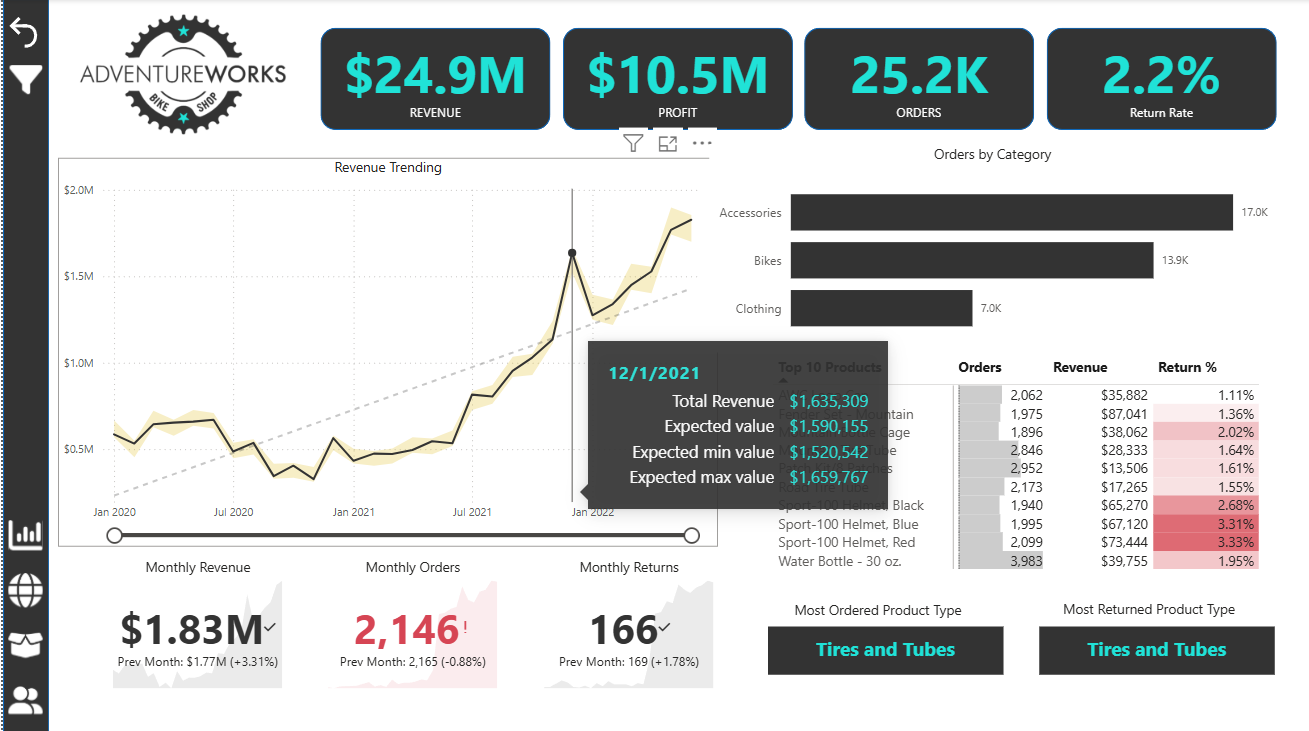

This screenshot's page, from the dashboard's own definition file:
{"tool":"powerbi","page":{"name":"EXEC Dashboard","canvas":[1280,720],"ordinal":0},"visuals":[{"type":"card","fields":{"Values":["Measure Table.Total Revenue"]},"box":[311.7,11.2,222.5,135],"z":0,"group":"g2"},{"type":"image","title":"AW Logo","box":[36.7,11.7,280,123.3],"z":0},{"type":"shape","box":[310,28.3,225,100],"z":0,"group":"g1"},{"type":"group","id":"g1","title":"KPI BAckgrounds","box":[310,28.3,935,100],"z":0,"group":"g3"},{"type":"actionButton","box":[1.2,665.2,45.2,41.6],"z":0,"group":"g4"},{"type":"shape","title":"Left Nav BG","box":[0,0,45,720],"z":1000},{"type":"group","id":"g2","title":"KPI VALUES","box":[311.7,11.2,932.5,135],"z":1000,"group":"g3"},{"type":"card","fields":{"Values":["Measure Table.Total Orders"]},"box":[785,11.2,222.5,135],"z":1000,"group":"g2"},{"type":"shape","box":[546.7,28.3,225,100],"z":1000,"group":"g1"},{"type":"actionButton","box":[1.2,503.8,45.2,41.6],"z":1000,"group":"g4"},{"type":"group","id":"g3","title":"KPIs","box":[310,11.2,935,135],"z":2000},{"type":"card","fields":{"Values":["Measure Table.Total Profit"]},"box":[548.4,11.2,222.5,135],"z":2000,"group":"g2"},{"type":"shape","box":[1020,28.3,225,100],"z":2000,"group":"g1"},{"type":"actionButton","box":[1.2,611.4,45.2,41.6],"z":2000,"group":"g4"},{"type":"card","fields":{"Values":["Measure Table.Return Rate"]},"box":[1021.7,11.2,222.5,135],"z":3000,"group":"g2"},{"type":"shape","box":[783.3,28.3,225,100],"z":3000,"group":"g1"},{"type":"lineChart","title":"Revenue Trending","fields":{"Category":["Calendar Lookup.Start of Month"],"Y":["Measure Table.Total Revenue"]},"box":[54.3,155.7,645.7,380],"z":3000},{"type":"actionButton","box":[1.2,557.6,45.2,41.6],"z":3000,"group":"g4"},{"type":"kpi","title":"Monthly Revenue","fields":{"Goal":["Measure Table.Previous Month Revenue"],"Indicator":["Measure Table.Total Revenue"],"TrendLine":["Calendar Lookup.Start of Month"]},"box":[102.9,547.1,175.7,132.9],"z":4000},{"type":"kpi","title":"Monthly Returns","fields":{"Goal":["Measure Table.Previous Month Returns"],"Indicator":["Measure Table.Total Returns"],"TrendLine":["Calendar Lookup.Start of Month"]},"box":[524.3,547.1,175.7,132.9],"z":5000},{"type":"kpi","title":"Monthly Orders","fields":{"Goal":["Measure Table.Previous Month Orders"],"Indicator":["Measure Table.Total Orders"],"TrendLine":["Calendar Lookup.Start of Month"]},"box":[313.6,547.1,175.7,132.9],"z":6000},{"type":"clusteredBarChart","title":"Orders by Category","fields":{"Category":["Product Categories Lookup.CategoryName"],"Y":["Measure Table.Total Orders"]},"box":[691.4,141.4,554.3,204.3],"z":7000},{"type":"pivotTable","fields":{"Rows":["Product Lookup.ProductName"],"Values":["Measure Table.Total Orders","Measure Table.Total Revenue","Measure Table.Return Rate"]},"box":[748.6,345.7,495.7,221.4],"z":8000},{"type":"card","fields":{"Values":["Min(Product Subcategories Lookup.SubcategoryName)"]},"box":[748.6,614.3,230,47.1],"z":9000},{"type":"textbox","box":[768.6,582.9,192.9,28.6],"z":10000},{"type":"textbox","box":[1032.3,582.6,192.9,28.6],"z":11000},{"type":"card","fields":{"Values":["Min(Product Subcategories Lookup.SubcategoryName)"]},"box":[1014.3,614.3,230,47.1],"z":12000},{"type":"actionButton","box":[0,12.2,45.2,40.4],"z":13000},{"type":"group","id":"g4","title":"Navigation buttons","box":[1.2,503.8,45.2,203],"z":14000},{"type":"actionButton","box":[2.4,58.7,45.2,40.4],"z":15000}]}

Visuals, with their boxes on the page's 1280x720 design canvas (x1, y1, x2, y2). These are canvas units, not pixel positions in the 1309x731 screenshot, which may show the page scaled, cropped or inside an application window:
card - Measure Table.Total Revenue: left=312, top=11, right=534, bottom=146
"AW Logo" image: left=37, top=12, right=317, bottom=135
shape: left=310, top=28, right=535, bottom=128
"KPI BAckgrounds" group: left=310, top=28, right=1245, bottom=128
actionButton: left=1, top=665, right=46, bottom=707
"Left Nav BG" shape: left=0, top=0, right=45, bottom=720
"KPI VALUES" group: left=312, top=11, right=1244, bottom=146
card - Measure Table.Total Orders: left=785, top=11, right=1008, bottom=146
shape: left=547, top=28, right=772, bottom=128
actionButton: left=1, top=504, right=46, bottom=545
"KPIs" group: left=310, top=11, right=1245, bottom=146
card - Measure Table.Total Profit: left=548, top=11, right=771, bottom=146
shape: left=1020, top=28, right=1245, bottom=128
actionButton: left=1, top=611, right=46, bottom=653
card - Measure Table.Return Rate: left=1022, top=11, right=1244, bottom=146
shape: left=783, top=28, right=1008, bottom=128
"Revenue Trending" lineChart: left=54, top=156, right=700, bottom=536
actionButton: left=1, top=558, right=46, bottom=599
"Monthly Revenue" kpi: left=103, top=547, right=279, bottom=680
"Monthly Returns" kpi: left=524, top=547, right=700, bottom=680
"Monthly Orders" kpi: left=314, top=547, right=489, bottom=680
"Orders by Category" clusteredBarChart: left=691, top=141, right=1246, bottom=346
pivotTable - Product Lookup.ProductName x Measure Table.Total Orders: left=749, top=346, right=1244, bottom=567
card - Min(Product Subcategories Lookup.SubcategoryName): left=749, top=614, right=979, bottom=661
textbox: left=769, top=583, right=962, bottom=612
textbox: left=1032, top=583, right=1225, bottom=611
card - Min(Product Subcategories Lookup.SubcategoryName): left=1014, top=614, right=1244, bottom=661
actionButton: left=0, top=12, right=45, bottom=53
"Navigation buttons" group: left=1, top=504, right=46, bottom=707
actionButton: left=2, top=59, right=48, bottom=99
